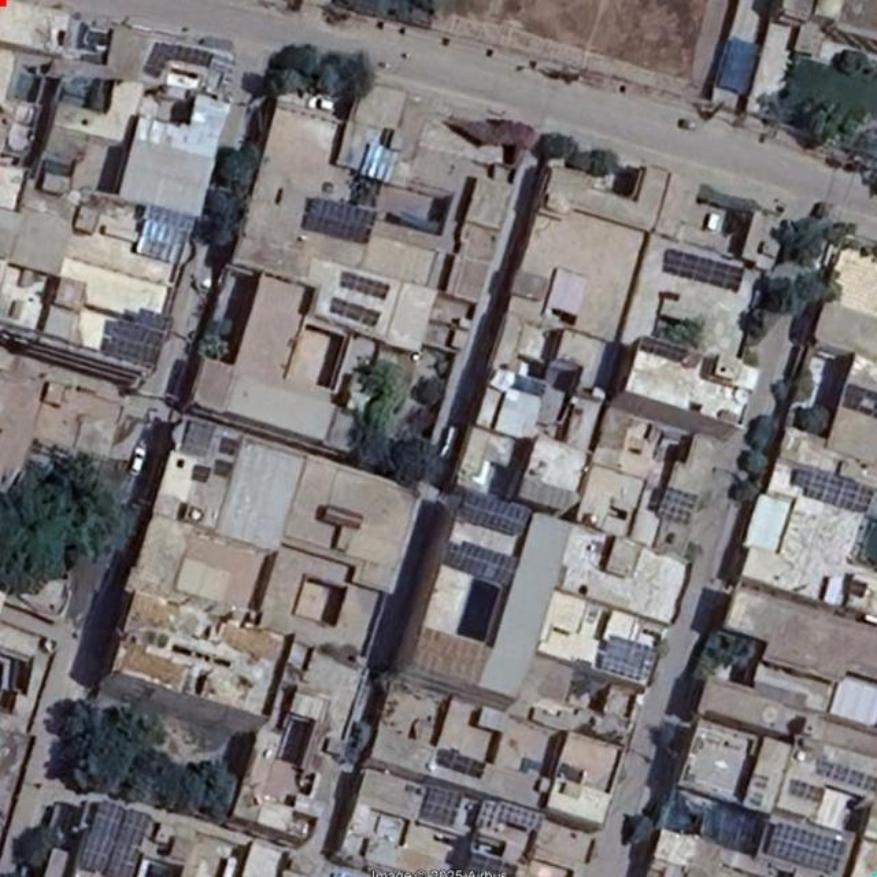Solarpanel: (78, 802, 153, 876), (104, 302, 171, 368), (788, 470, 876, 516), (438, 536, 519, 585), (768, 822, 846, 872), (664, 248, 744, 292), (305, 197, 378, 244), (458, 491, 530, 537), (601, 634, 658, 681), (815, 756, 876, 794), (419, 786, 463, 828), (152, 39, 216, 66), (435, 748, 485, 781), (658, 485, 699, 525), (329, 297, 380, 328), (499, 800, 544, 834), (340, 273, 390, 299), (641, 337, 690, 360), (790, 779, 826, 807), (141, 52, 168, 80), (475, 799, 500, 829)
